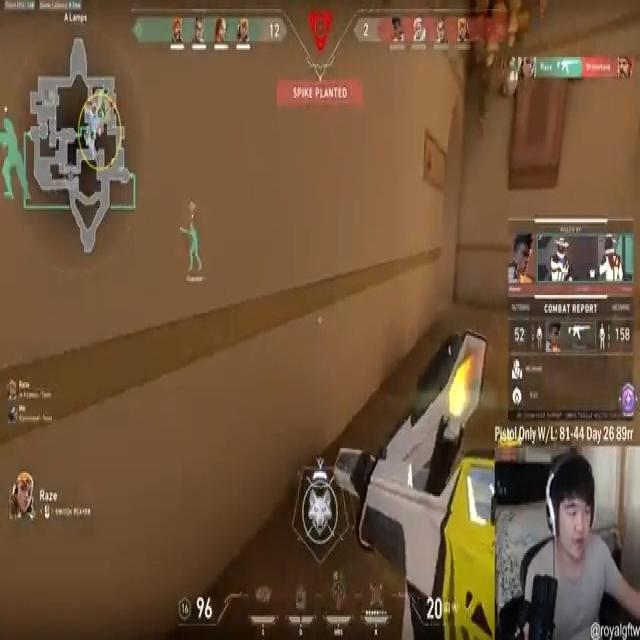ally behind wall: (0, 115, 29, 208), (180, 214, 205, 286)
